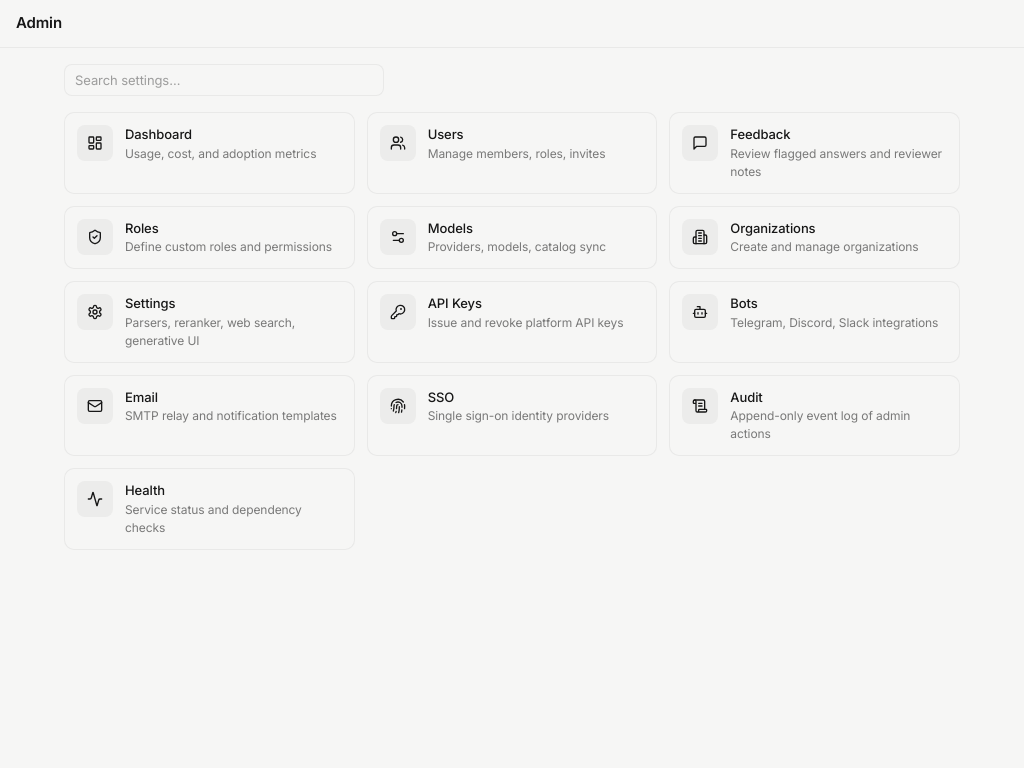
it: typing in the search box filters the visible cards by label and description
In the search field with placeholder "Search settings…": (224, 80) top-left (64, 64), bottom-right (384, 96), type "catalog sync"
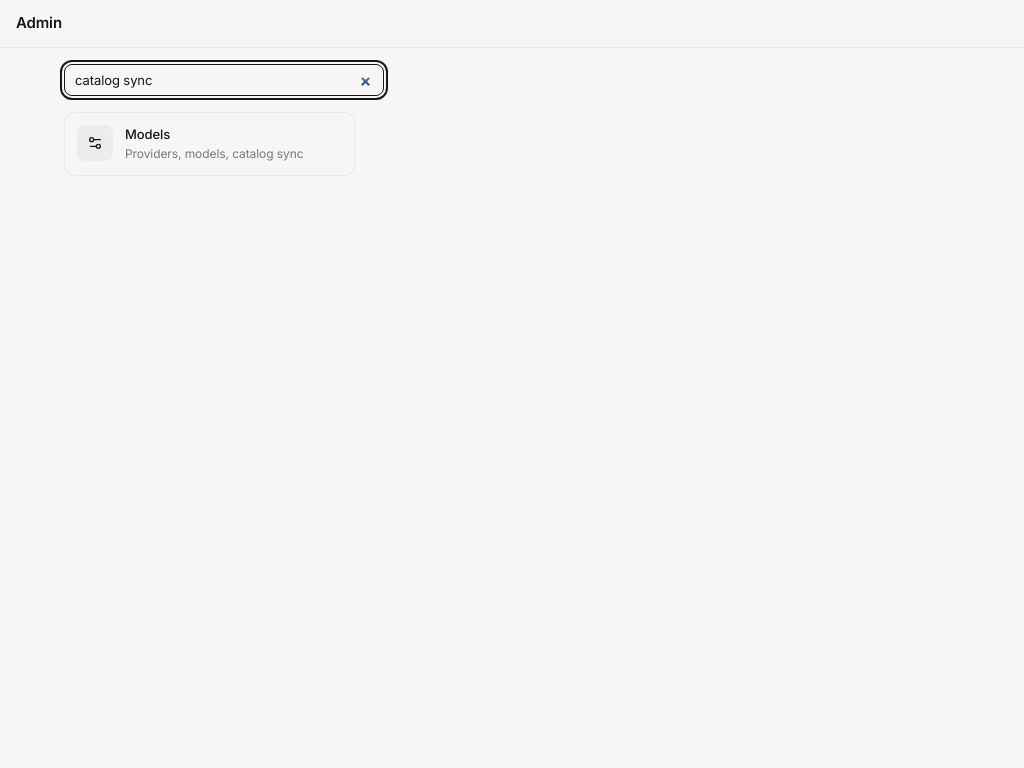
Expected: the text "Models" is shown, top-left (125, 126), bottom-right (170, 142)
Expected: the link "Users" is gone
Expected: the link "Bots" is gone
